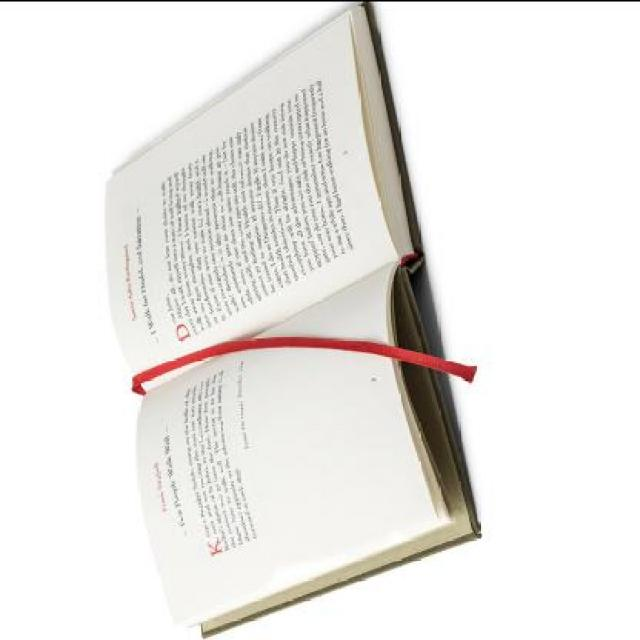book: (89, 16, 487, 635)
